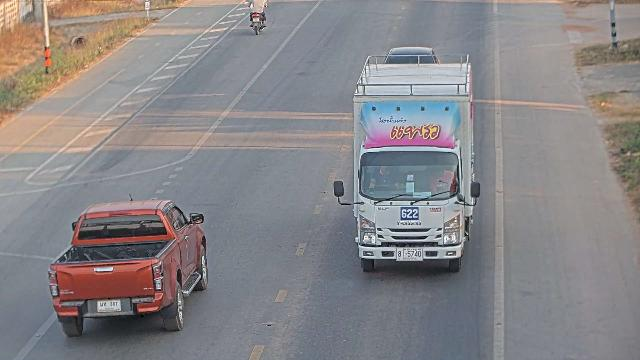motorcycle: (246, 0, 269, 38)
pickup-truck: (47, 194, 209, 337)
truck: (351, 58, 474, 276)
